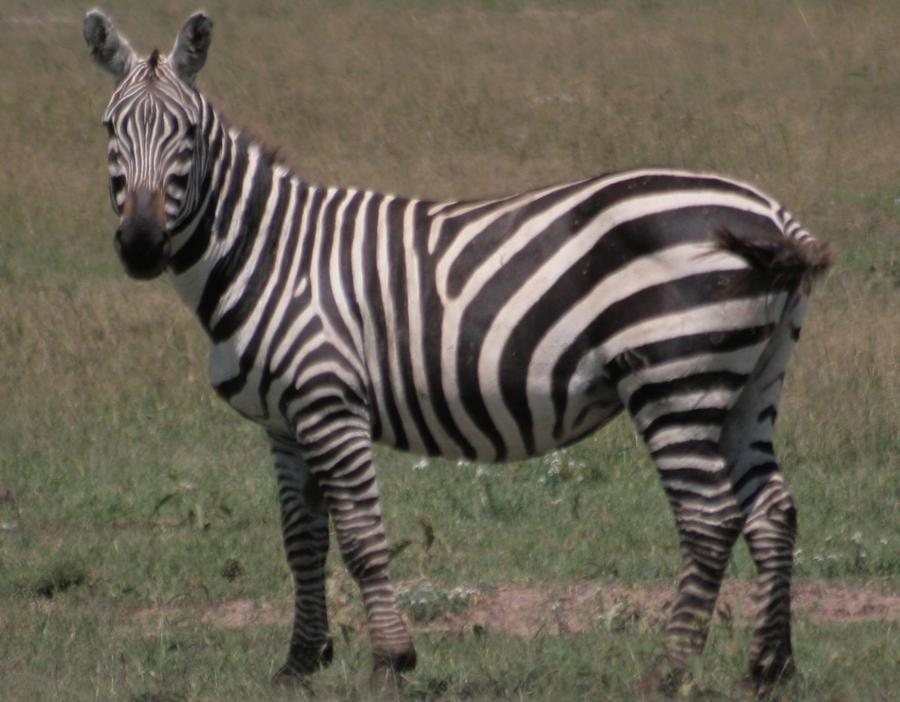zebra_plains: (216, 140, 766, 472)
